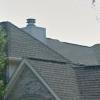Chimney: (21, 14, 52, 39)
